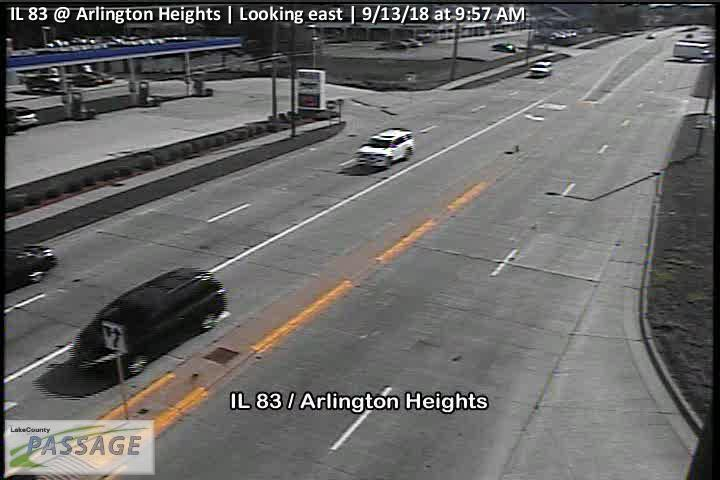SUV: (70, 269, 229, 374), (357, 126, 414, 167)
Sedan: (527, 61, 553, 78)
Truck: (673, 41, 714, 60)
